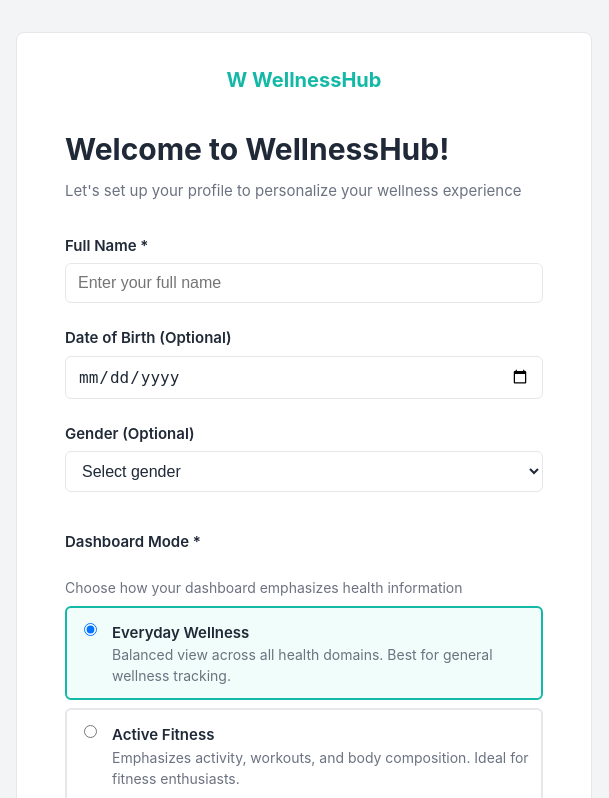
Scenario: when apiFetch rejects a form-level error message is shown
In the field labelled "Full Name *": (304, 283) [65, 263, 543, 303], type "Alice Smith"
(page scrolled)
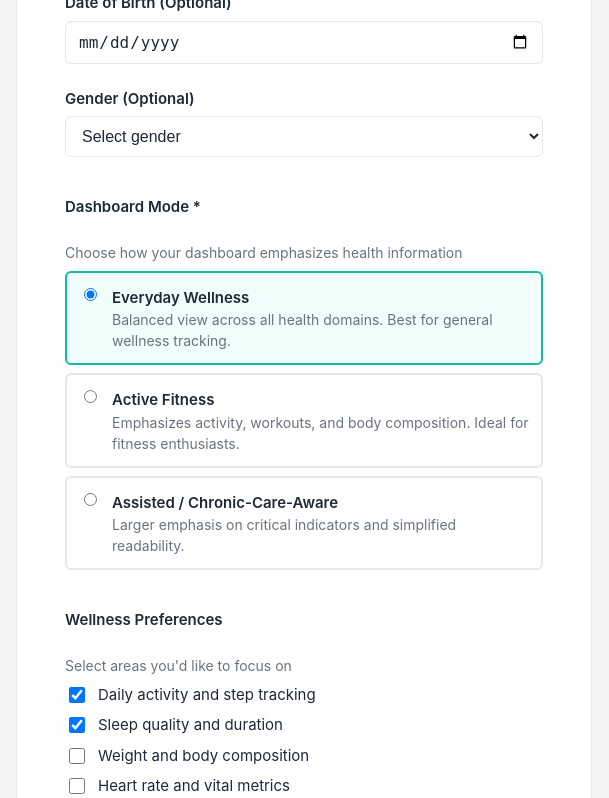
Submit the form named "Next: Connect Devices"
(page scrolled)
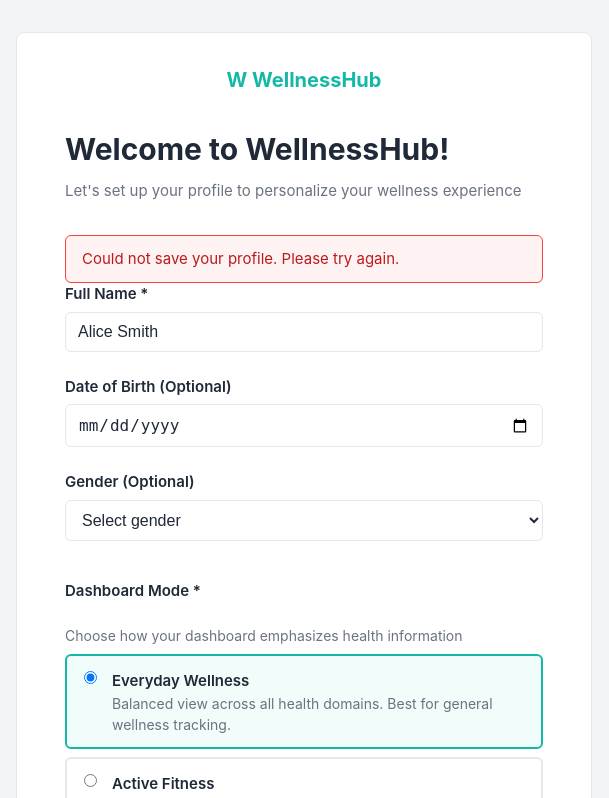
Check: the text "Could not save your profile. Please try again." is shown, box [65, 234, 543, 283]
